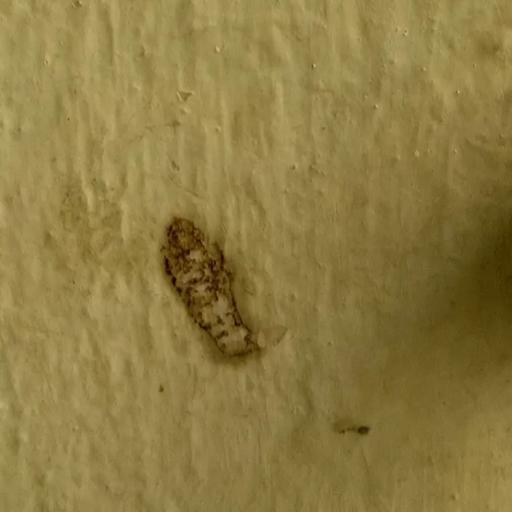stain: (114, 163, 301, 419), (334, 400, 380, 461)
